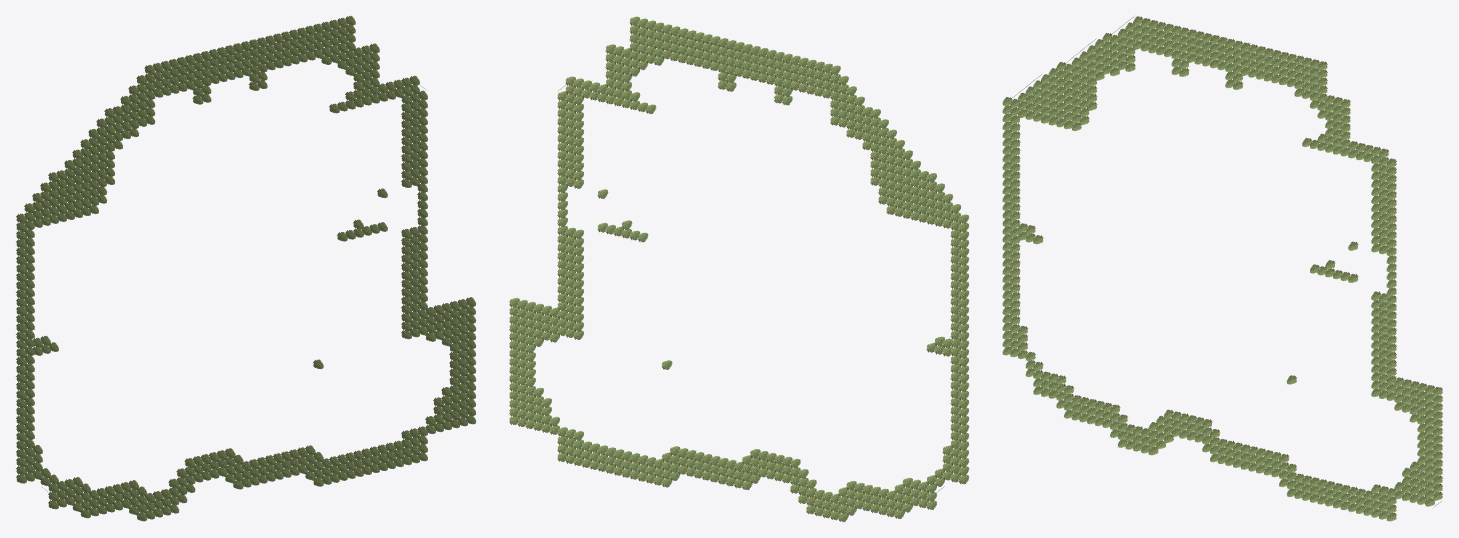
Rendered from trees.fbx.
3 views of the same model, side by side, from view 1: azimuth 30°, elevation 25°; view 2: azimuth 150°, elevation 25°; view 3: azimuth 330°, elevation 25° (orthographic). The views are drawn at different scales.
Visible parts, largest first — view 1: tree_background_2752; view 2: tree_background_2752; view 3: tree_background_2752.
Boxes of the visible parts, x1,y1,x2,y2 form: tree_background_2752: (16, 16, 476, 521); tree_background_2752: (509, 16, 969, 521); tree_background_2752: (1002, 16, 1443, 521).
Bounding box in the file's own units: 227 × 219 × 8.
1 material, 1 textured.
